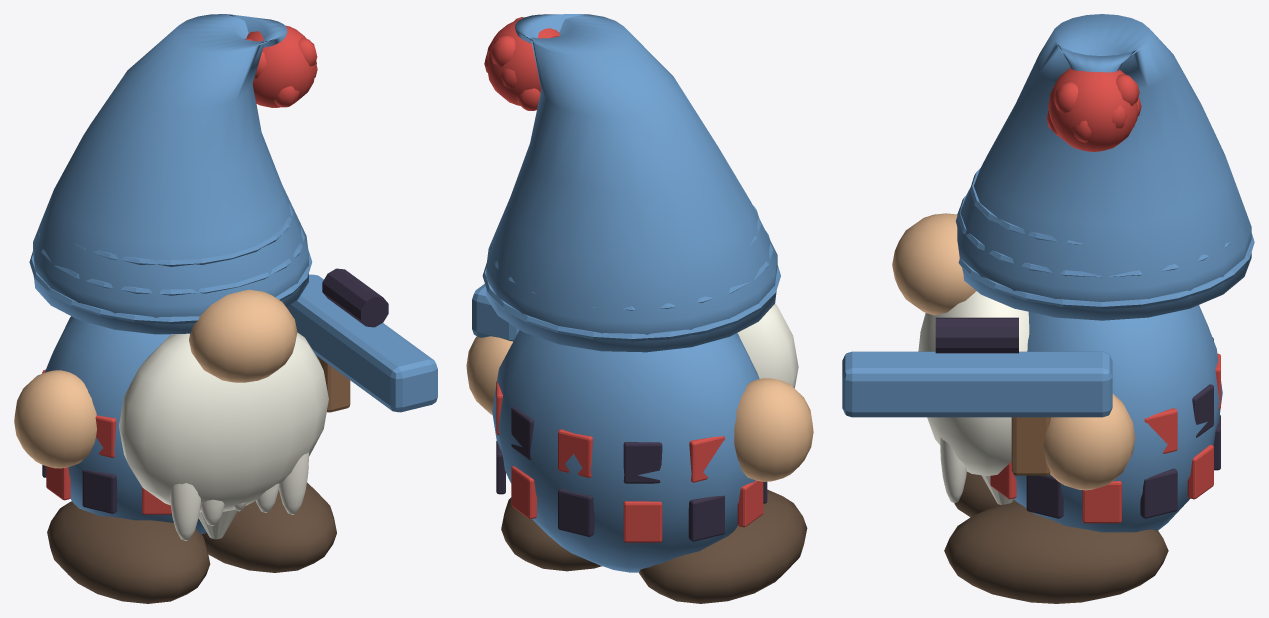
Rendered from gnome-sniper.glb.
3 renders of one model, left to right at view 1: azimuth 30°, elevation 25°; view 2: azimuth 150°, elevation 25°; view 3: azimuth 270°, elevation 25°, orthographic. The views are drawn at different scales.
Parts seen in each view (by area): view 1: gnome-sniper; view 2: gnome-sniper; view 3: gnome-sniper.
Part boxes in pixels (<box>): gnome-sniper: <box>14,14,437,603</box>; gnome-sniper: <box>466,14,813,603</box>; gnome-sniper: <box>842,14,1254,603</box>.
Size of the model in its own units: 0.95 by 1.46 by 0.992.
